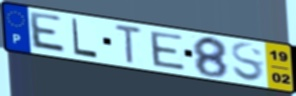8: (190, 35, 231, 79)
E: (29, 10, 68, 56), (148, 30, 187, 72)
L: (70, 17, 99, 60)
S: (230, 42, 267, 84)
T: (113, 22, 144, 65)
